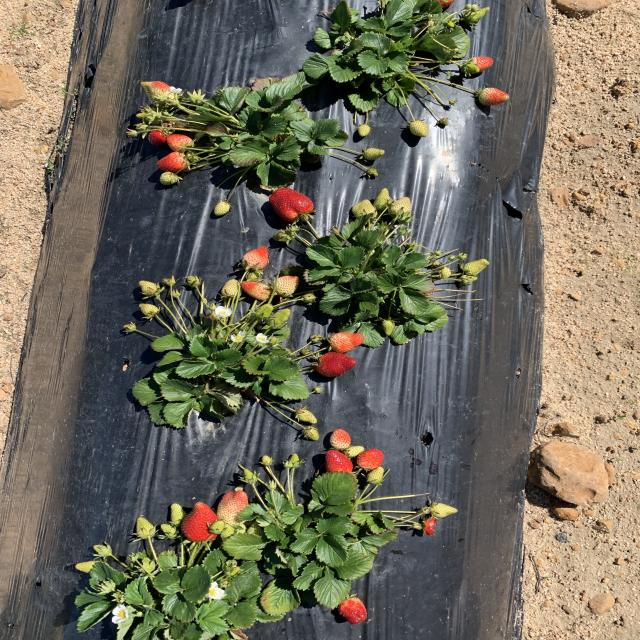unripe: (182, 501, 220, 542), (269, 188, 316, 220), (313, 352, 358, 378), (320, 450, 354, 478), (338, 597, 368, 624), (242, 246, 270, 267), (358, 449, 384, 471), (157, 153, 190, 170), (329, 332, 362, 349), (169, 133, 195, 153), (462, 56, 495, 71), (147, 126, 169, 147)
